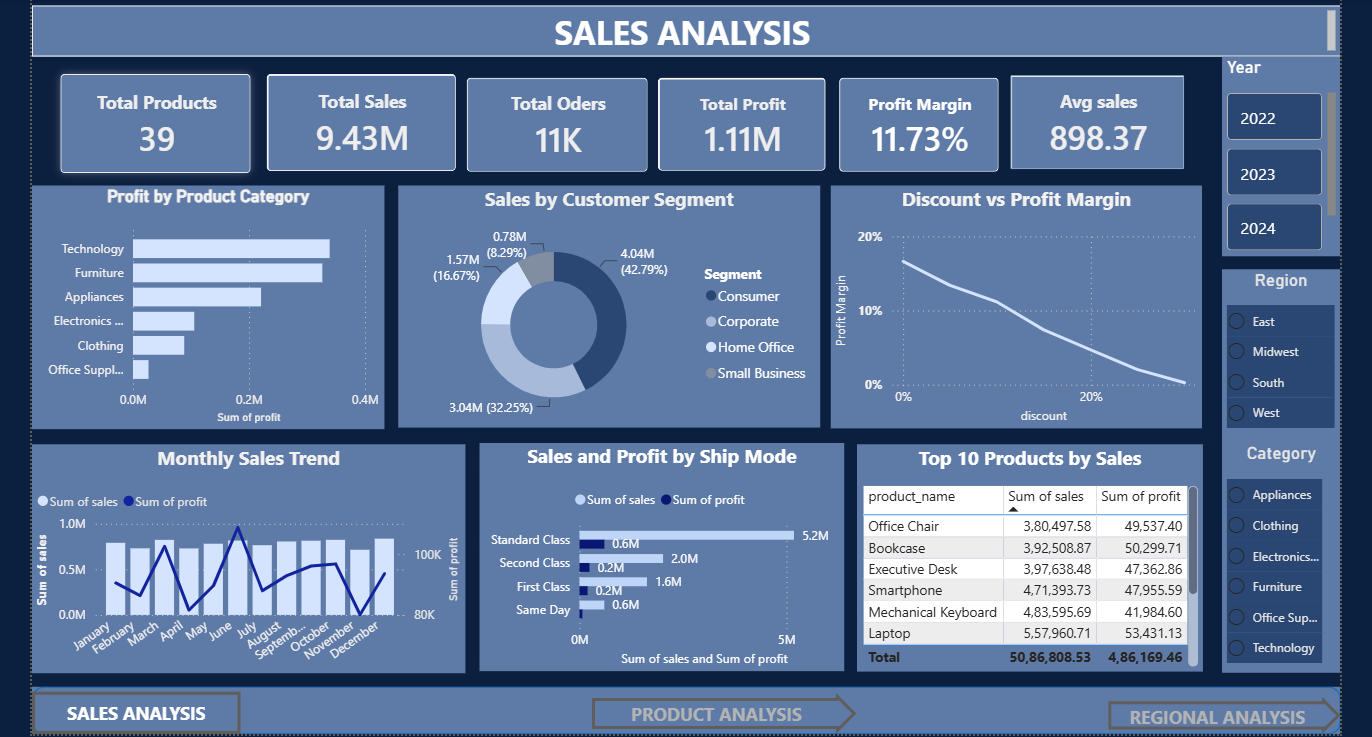

This screenshot's page, from the dashboard's own definition file:
{"tool":"powerbi","page":{"name":"SALES ANALYSIS","canvas":[1280,720],"ordinal":0},"visuals":[{"type":"shape","box":[0,673.5,1280.3,46.5],"z":0},{"type":"barChart","title":"Profit by Product Category","fields":{"Category":["sales_dataset.category"],"Y":["Sum(sales_dataset.profit)"]},"box":[0,183,345,238],"z":1000},{"type":"donutChart","title":" Sales by Customer Segment","fields":{"Category":["sales_dataset.segment"],"Y":["sales_dataset.Total Sales"]},"box":[357.7,183.1,412.7,236.6],"z":2000},{"type":"cardVisual","fields":{"Data":["sales_dataset.count of oders"]},"box":[408.5,60.6,211.3,126.8],"z":3000},{"type":"cardVisual","fields":{"Data":["sales_dataset.avg sales"]},"box":[940.8,59.2,204.2,126.8],"z":4000},{"type":"cardVisual","fields":{"Data":["sales_dataset.TotalSales"]},"box":[212.7,57.7,219.7,129.6],"z":5000},{"type":"textbox","box":[0,7.4,1280.2,50.6],"z":6000},{"type":"lineStackedColumnComboChart","title":"Monthly Sales Trend","fields":{"Category":["sales_dataset.order_date.Variation.Date Hierarchy.Month"],"Y":["Sum(sales_dataset.sales)"],"Y2":["Sum(sales_dataset.profit)"]},"box":[0,436.6,423.9,223.9],"z":7000},{"type":"lineChart","title":"Discount vs Profit Margin","fields":{"Category":["sales_dataset.discount"],"Y":["sales_dataset.Profit Margin"]},"box":[781.1,183.3,363.3,237.8],"z":8000},{"type":"tableEx","title":"Top 10 Products by Sales","fields":{"Values":["sales_dataset.product_name","Sum(sales_dataset.sales)","Sum(sales_dataset.profit)"]},"box":[807.4,437,338.3,222.2],"z":9000},{"type":"actionButton","box":[0,678.7,204,41.3],"z":10000},{"type":"actionButton","box":[548,680,258.7,40],"z":11000},{"type":"actionButton","box":[1053.1,684,227.3,36.4],"z":12000},{"type":"cardVisual","fields":{"Data":["sales_dataset.TotalProducts"]},"box":[0,46.5,242.3,153.5],"z":13000},{"type":"cardVisual","fields":{"Data":["sales_dataset.Total Profit"]},"box":[595.8,60.6,198.7,125.3],"z":14000},{"type":"listSlicer","title":"Region","fields":{"Values":["sales_dataset.region"]},"box":[1164.2,265.4,115.7,170],"z":15000},{"type":"listSlicer","title":"Category","fields":{"Values":["sales_dataset.category"]},"box":[1163.8,435,116.7,224.4],"z":16000},{"type":"cardVisual","fields":{"Data":["sales_dataset.Profit Margin"]},"box":[773.2,60.6,190.1,126.8],"z":17000},{"type":"advancedSlicerVisual","fields":{"Values":["sales_dataset.order_date.Variation.Date Hierarchy.Year"]},"box":[1164.2,58,116,195.1],"z":18000},{"type":"clusteredBarChart","title":"Sales and Profit by Ship Mode","fields":{"Category":["sales_dataset.ship_mode"],"Y":["Sum(sales_dataset.sales)","Sum(sales_dataset.profit)"]},"box":[438.3,435.8,356.8,223.5],"z":19000}]}

Visuals, with their boxes on the page's 1280x720 design canvas (x1, y1, x2, y2). These are canvas units, not pixel positions in the 1372x737 screenshot, which may show the page scaled, cropped or inside an application window:
shape: region(0, 674, 1280, 720)
"Profit by Product Category" barChart: region(0, 183, 345, 421)
" Sales by Customer Segment" donutChart: region(358, 183, 770, 420)
cardVisual - sales_dataset.count of oders: region(408, 61, 620, 187)
cardVisual - sales_dataset.avg sales: region(941, 59, 1145, 186)
cardVisual - sales_dataset.TotalSales: region(213, 58, 432, 187)
textbox: region(0, 7, 1280, 58)
"Monthly Sales Trend" lineStackedColumnComboChart: region(0, 437, 424, 660)
"Discount vs Profit Margin" lineChart: region(781, 183, 1144, 421)
"Top 10 Products by Sales" tableEx: region(807, 437, 1146, 659)
actionButton: region(0, 679, 204, 720)
actionButton: region(548, 680, 807, 720)
actionButton: region(1053, 684, 1280, 720)
cardVisual - sales_dataset.TotalProducts: region(0, 46, 242, 200)
cardVisual - sales_dataset.Total Profit: region(596, 61, 794, 186)
"Region" listSlicer: region(1164, 265, 1280, 435)
"Category" listSlicer: region(1164, 435, 1280, 659)
cardVisual - sales_dataset.Profit Margin: region(773, 61, 963, 187)
advancedSlicerVisual - sales_dataset.order_date.Variation.Date Hierarchy.Year: region(1164, 58, 1280, 253)
"Sales and Profit by Ship Mode" clusteredBarChart: region(438, 436, 795, 659)
